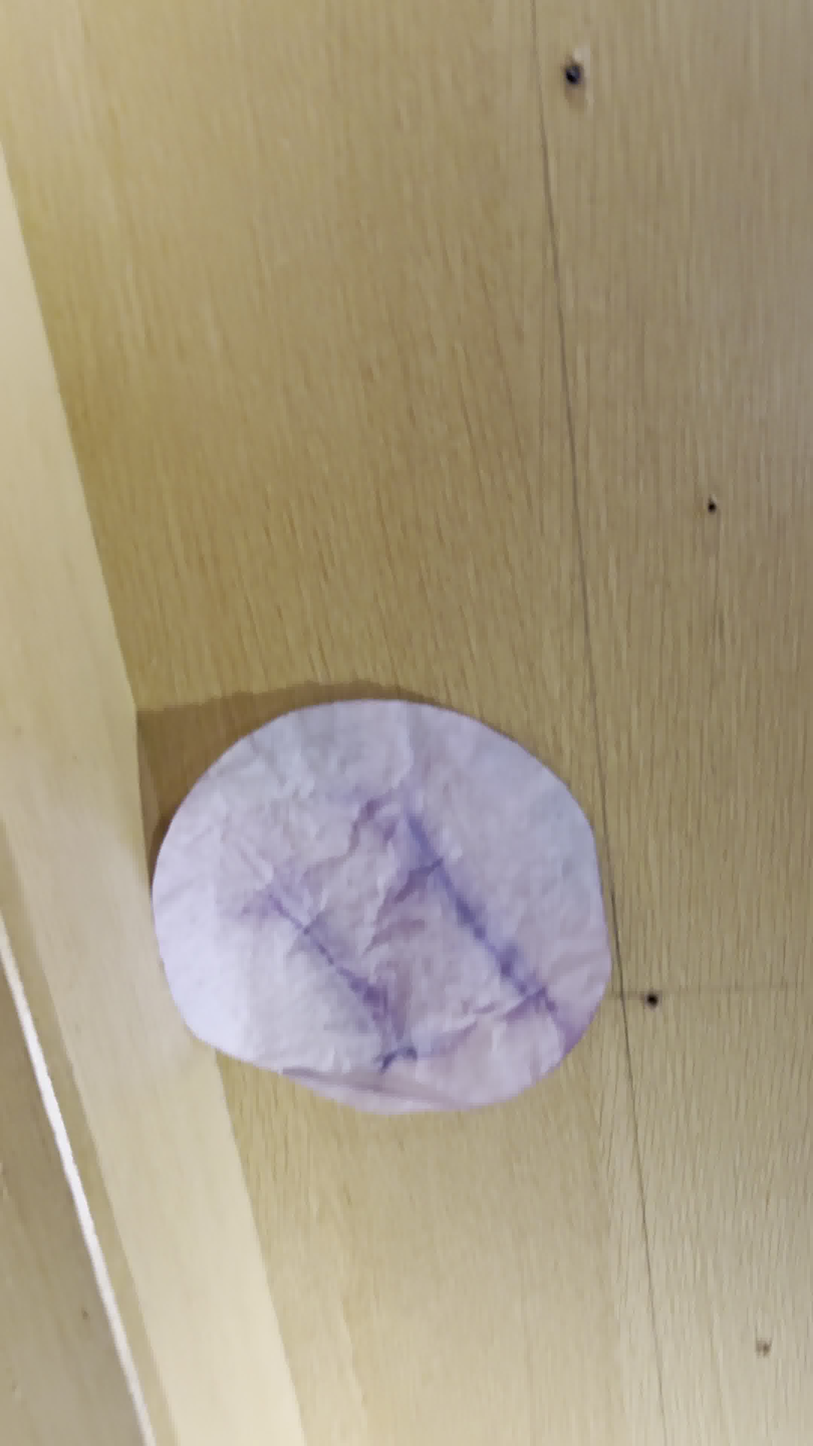Target: (152, 696, 609, 1115)
